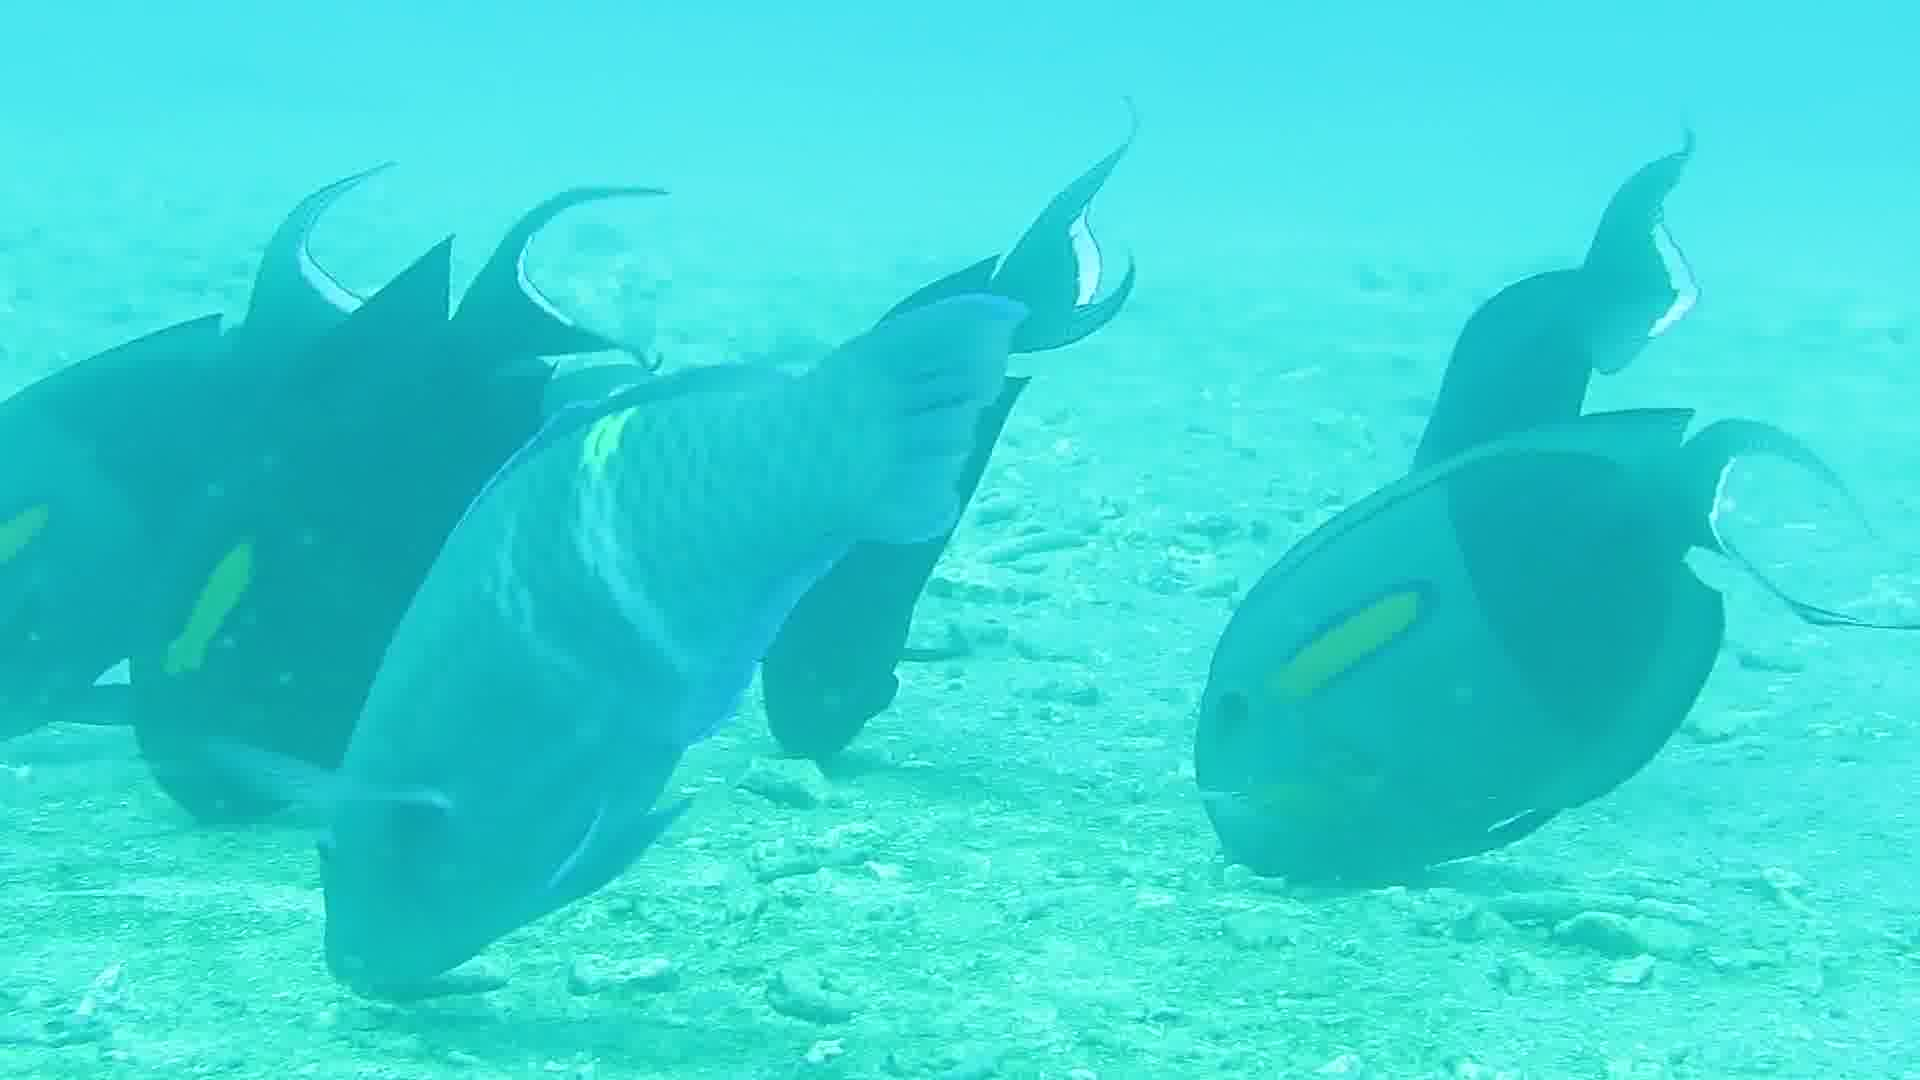Acanthurus olivaceus: (278, 284, 1044, 1014), (1145, 411, 1789, 902), (1, 189, 336, 789)
